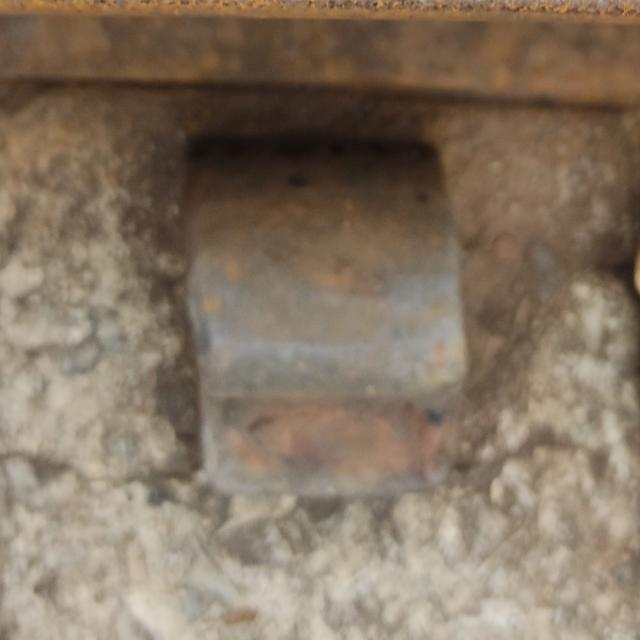track_bolt_missing: (173, 129, 475, 428)
